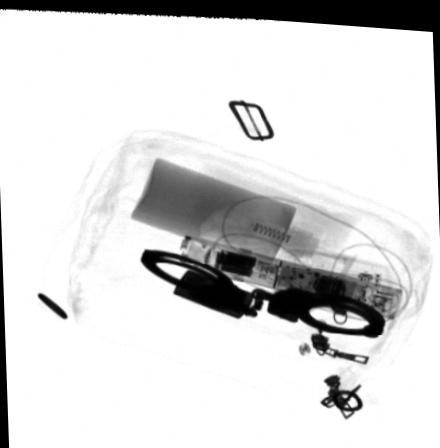Baton: (178, 231, 405, 314)
HandCuffs: (140, 245, 386, 330)
Lighter: (172, 264, 253, 314)
